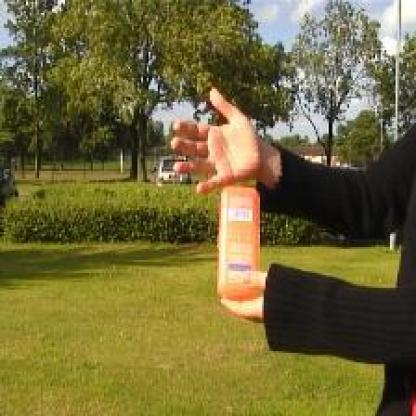other: (207, 179, 272, 304)
